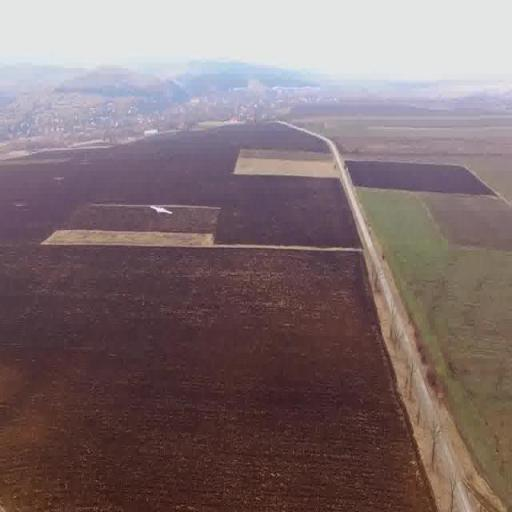uav: (147, 199, 175, 221)
